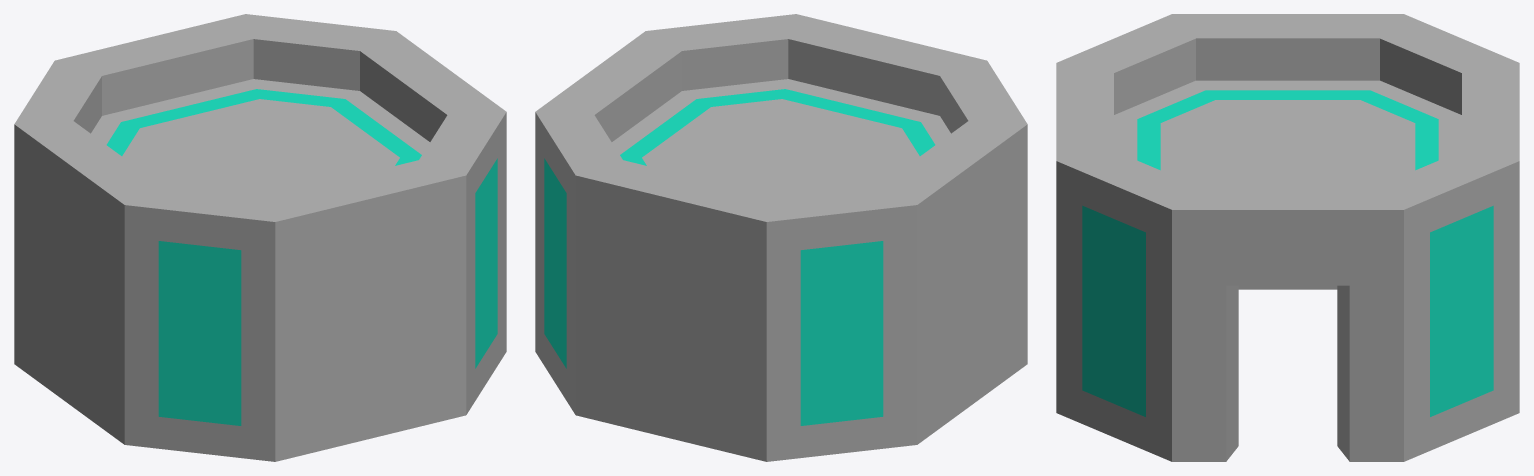
File: Warrior Tower.fbx
The picture shows the model from 3 angles, left to right: view 1: azimuth 30°, elevation 25°; view 2: azimuth 150°, elevation 25°; view 3: azimuth 270°, elevation 25°; orthographic projection. The views are drawn at different scales.
Parts seen in each view (by area): view 1: Torre Wizzard.020; view 2: Torre Wizzard.020; view 3: Torre Wizzard.020.
Part boxes in pixels (bbox=[...]): Torre Wizzard.020: bbox=[14, 14, 506, 461]; Torre Wizzard.020: bbox=[535, 14, 1027, 461]; Torre Wizzard.020: bbox=[1056, 14, 1519, 461].
Size of the model in its own units: 15 by 9 by 15.
